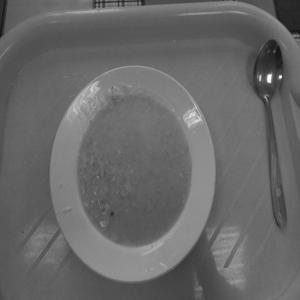porridge: (70, 85, 200, 261)
